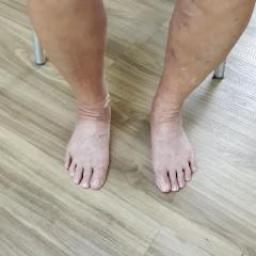Front View -Both Feet-: (45, 81, 216, 200)
